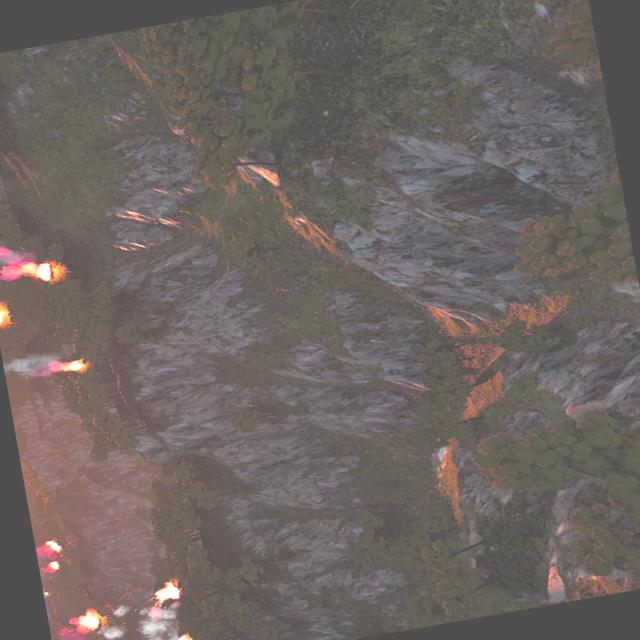fire: (3, 253, 62, 286), (68, 608, 101, 632), (52, 354, 88, 374), (152, 580, 182, 602), (41, 537, 63, 553), (0, 300, 10, 325), (44, 560, 60, 572), (179, 630, 193, 640), (42, 588, 49, 594)
smoke: (51, 598, 184, 640), (0, 173, 26, 280), (2, 351, 55, 383), (35, 547, 53, 587), (110, 602, 130, 616)
